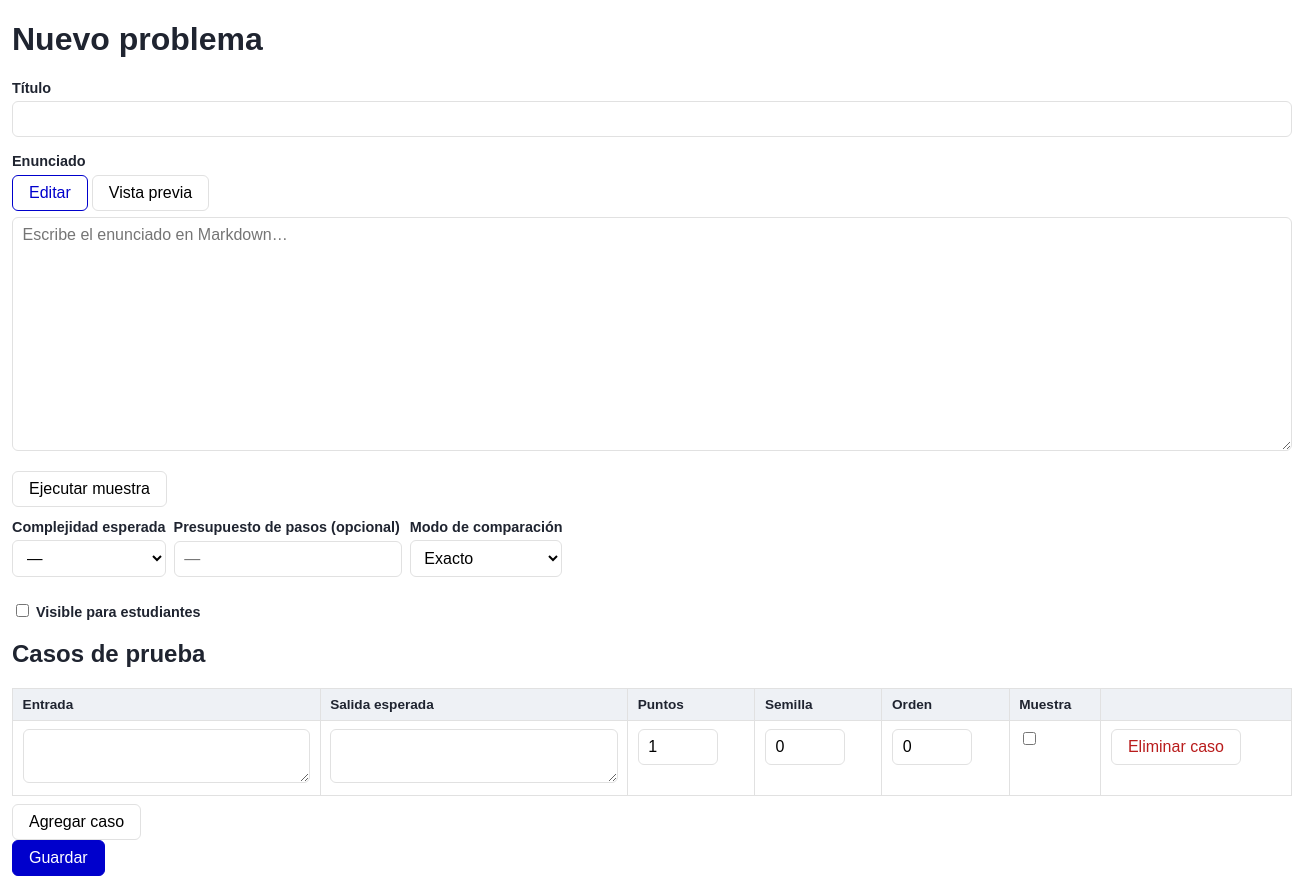
admin problems › blocks save when the title is empty
Select "O(1)" in the dropdown labelled "Complejidad esperada" at (89, 559), box [12,540,166,577]
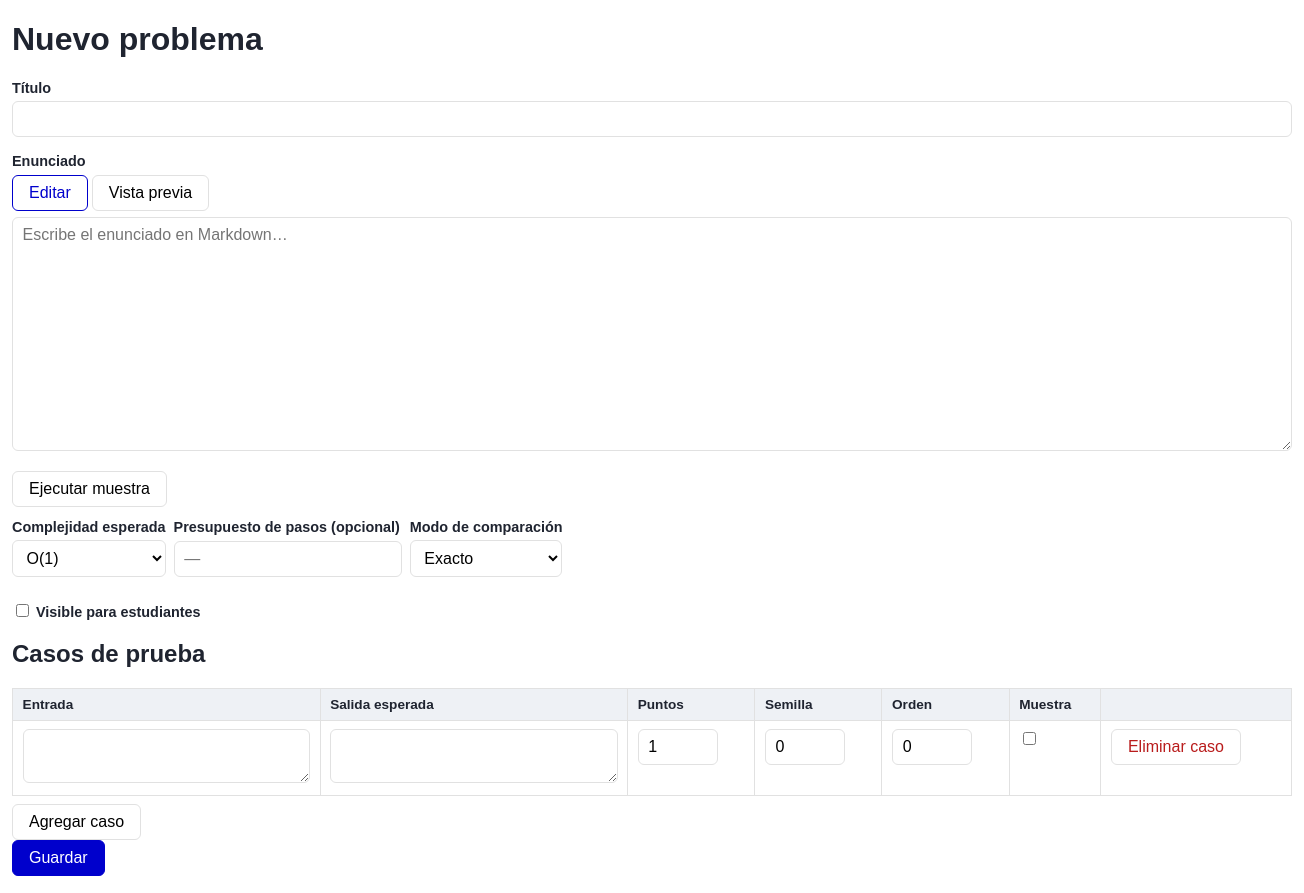
Click the button "Guardar" at (58, 858), box [12,840,105,876]
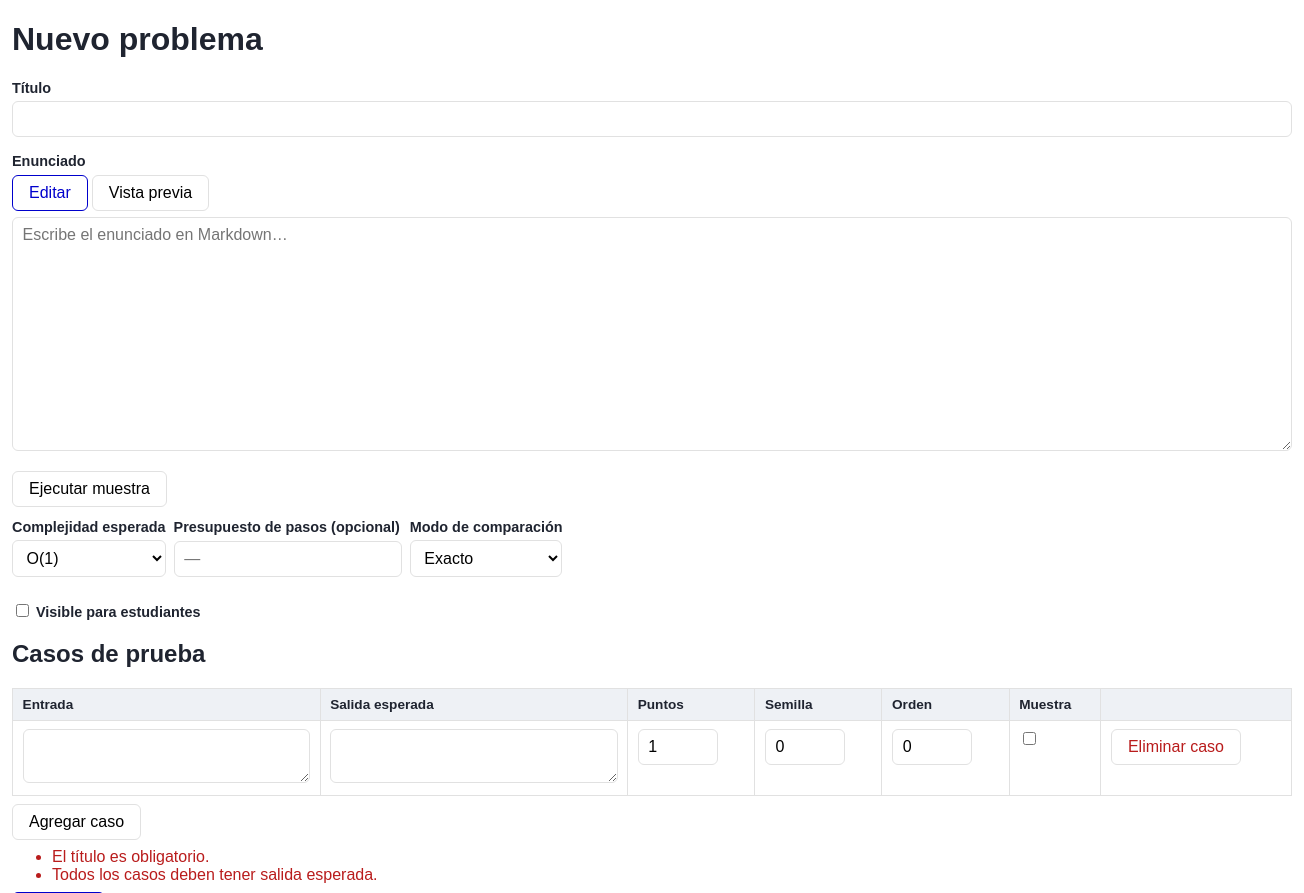
Result: the list item "El título es obligatorio." is shown at [52,848,209,865]
